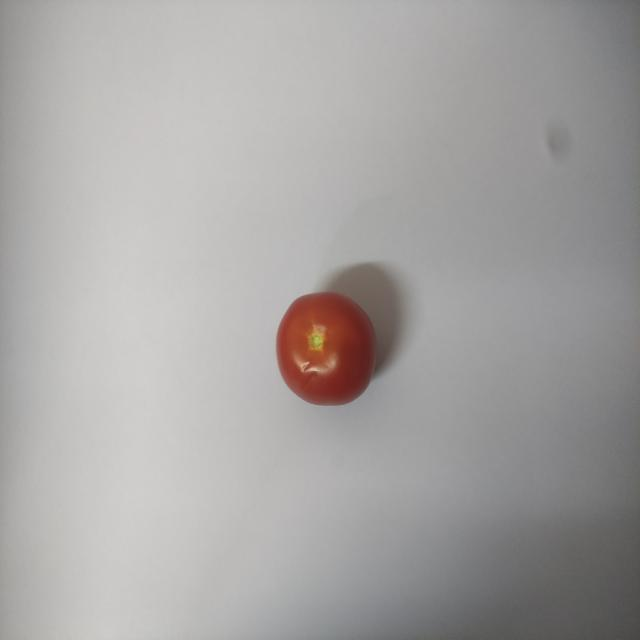kirmizi: (260, 282, 397, 417)
